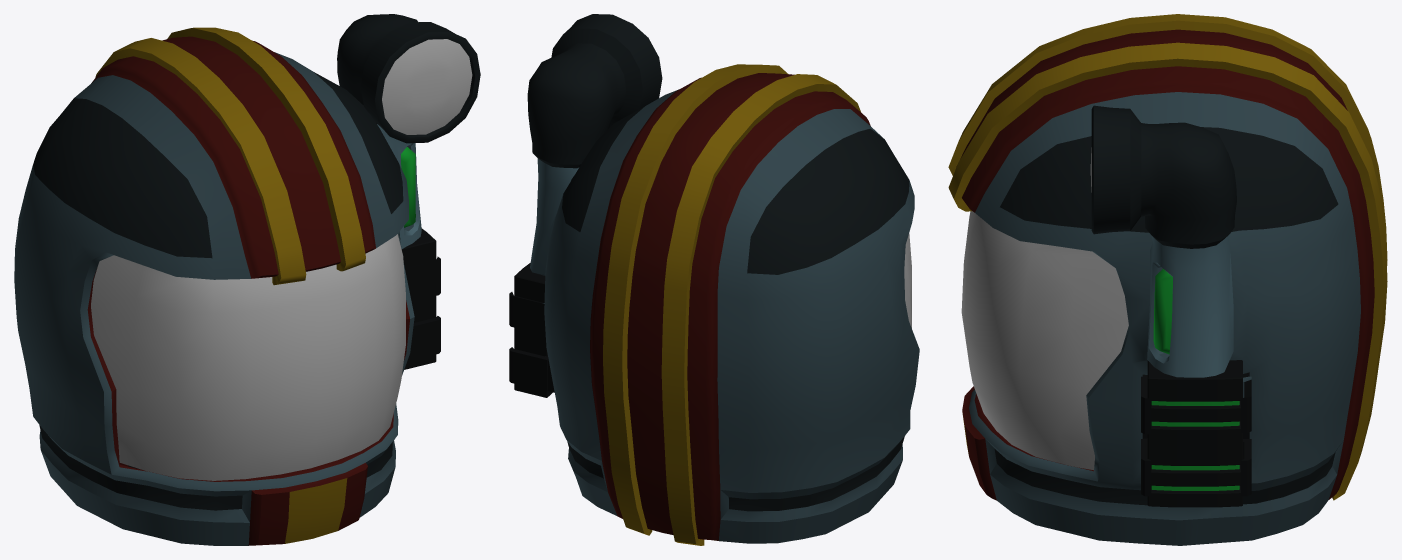
Rendered from helmet.fbx.
3 renders of one model, left to right at view 1: azimuth 30°, elevation 25°; view 2: azimuth 150°, elevation 25°; view 3: azimuth 270°, elevation 25°, orthographic. The views are drawn at different scales.
Visible parts, largest first — view 1: polySurface7, polySurface2, polySurface5; view 2: polySurface7, polySurface2; view 3: polySurface7, polySurface2.
Boxes of the visible parts, left/top/right/bottom form: polySurface7: left=14, top=14, right=480, bottom=545; polySurface2: left=91, top=234, right=405, bottom=480; polySurface5: left=382, top=39, right=472, bottom=134; polySurface7: left=509, top=14, right=919, bottom=545; polySurface2: left=904, top=233, right=911, bottom=328; polySurface7: left=948, top=14, right=1387, bottom=545; polySurface2: left=961, top=211, right=1128, bottom=470.
Size of the model in its own units: 20.12 by 21.14 by 18.42.
